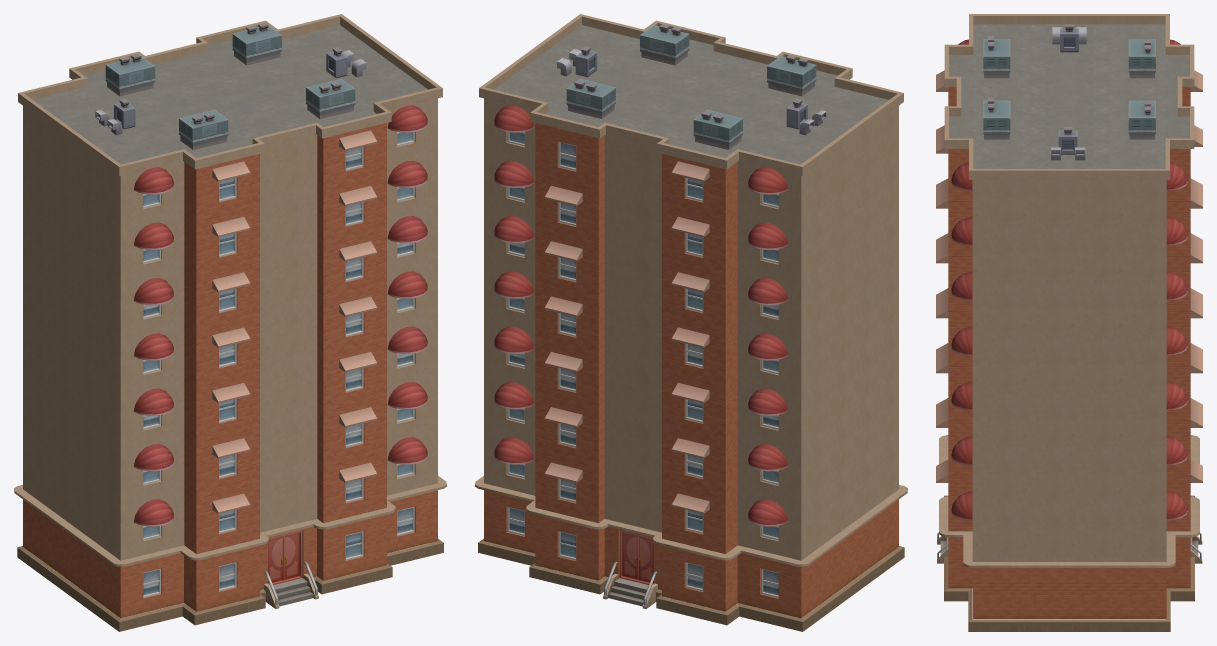
The model's file is Building_9.glb.
The picture shows the model from 3 angles, left to right: view 1: azimuth 30°, elevation 25°; view 2: azimuth 150°, elevation 25°; view 3: azimuth 270°, elevation 25°; orthographic projection.
Visible parts, largest first — view 1: Building_9_Roof_1; view 2: Building_9_Roof_1; view 3: Building_9_Roof_1.
Part boxes in pixels (x1,y1,x2,y2): Building_9_Roof_1: [14, 14, 446, 631]; Building_9_Roof_1: [475, 14, 907, 631]; Building_9_Roof_1: [936, 14, 1202, 631].
Bounding box in the file's own units: 15.76 × 21.86 × 11.01.
Materials: 10 (10 with a texture image).
